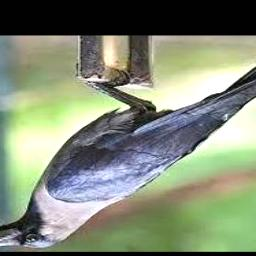Crow: (0, 40, 256, 248)
